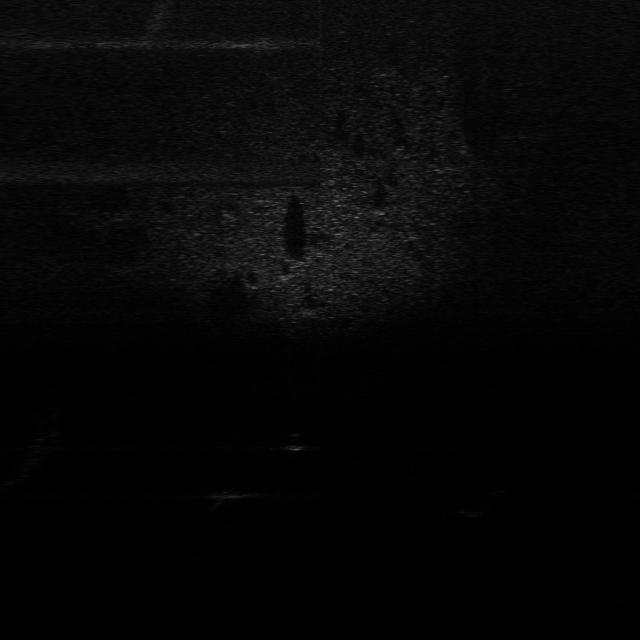ball: (279, 430, 312, 454)
square cage: (203, 480, 262, 509)
